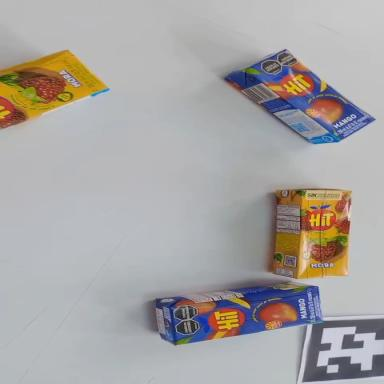HIT-MANGO: (224, 31, 375, 168), (153, 274, 323, 347)
HIT-MORA: (0, 38, 108, 131), (0, 43, 110, 128), (273, 187, 350, 280)
cara_F: (245, 38, 377, 152), (0, 42, 108, 129), (170, 286, 324, 345), (297, 188, 353, 282)
